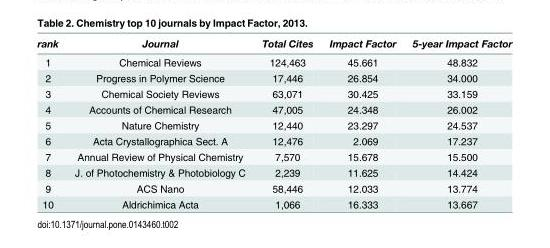table: (36, 36, 511, 209)
table column: (66, 36, 253, 209), (403, 36, 511, 209), (320, 36, 403, 209), (253, 36, 320, 209), (36, 36, 66, 209)
table column header: (36, 36, 511, 52)
table row: (36, 52, 511, 69), (36, 36, 511, 52), (36, 69, 511, 85), (36, 85, 511, 101), (36, 101, 511, 117), (36, 132, 511, 148), (36, 148, 511, 164), (36, 164, 511, 180), (36, 117, 511, 132), (36, 180, 511, 195), (36, 195, 511, 209)
